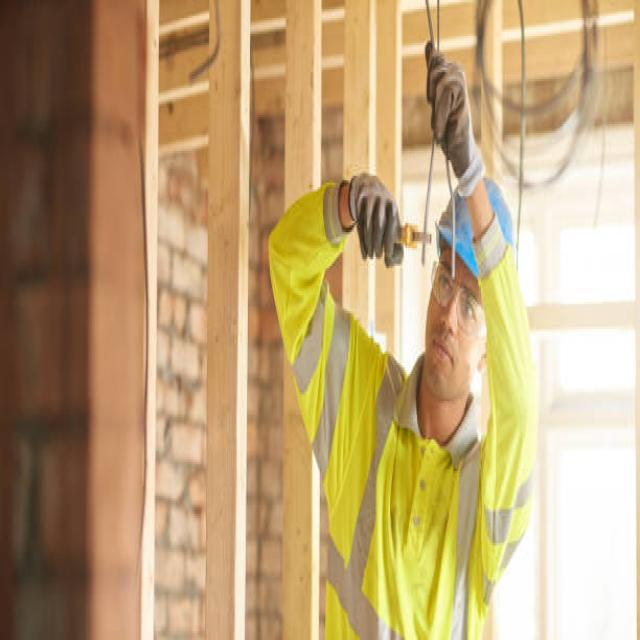gloves: (424, 36, 484, 194), (345, 167, 405, 268)
